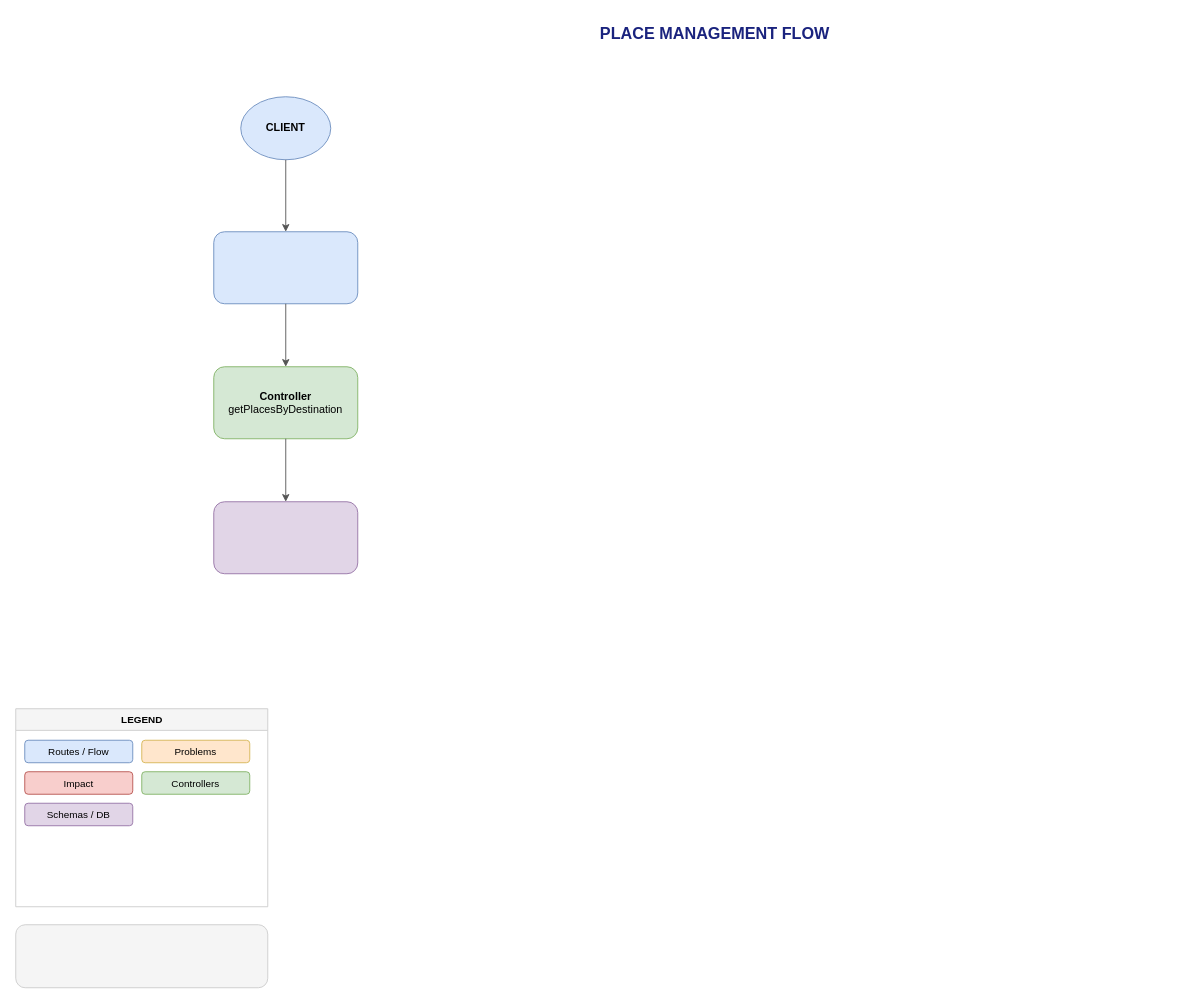
This 1181x1004 diagram has some shape labels left out. Each missing label, with the centre of its shape:
Route GET /places: [285,267]
Schema Place Model: [285,537]
Scope: Tourism Planner - Place Flow Author: Antigravity Agent Date: 2026-06-04: [141,956]
